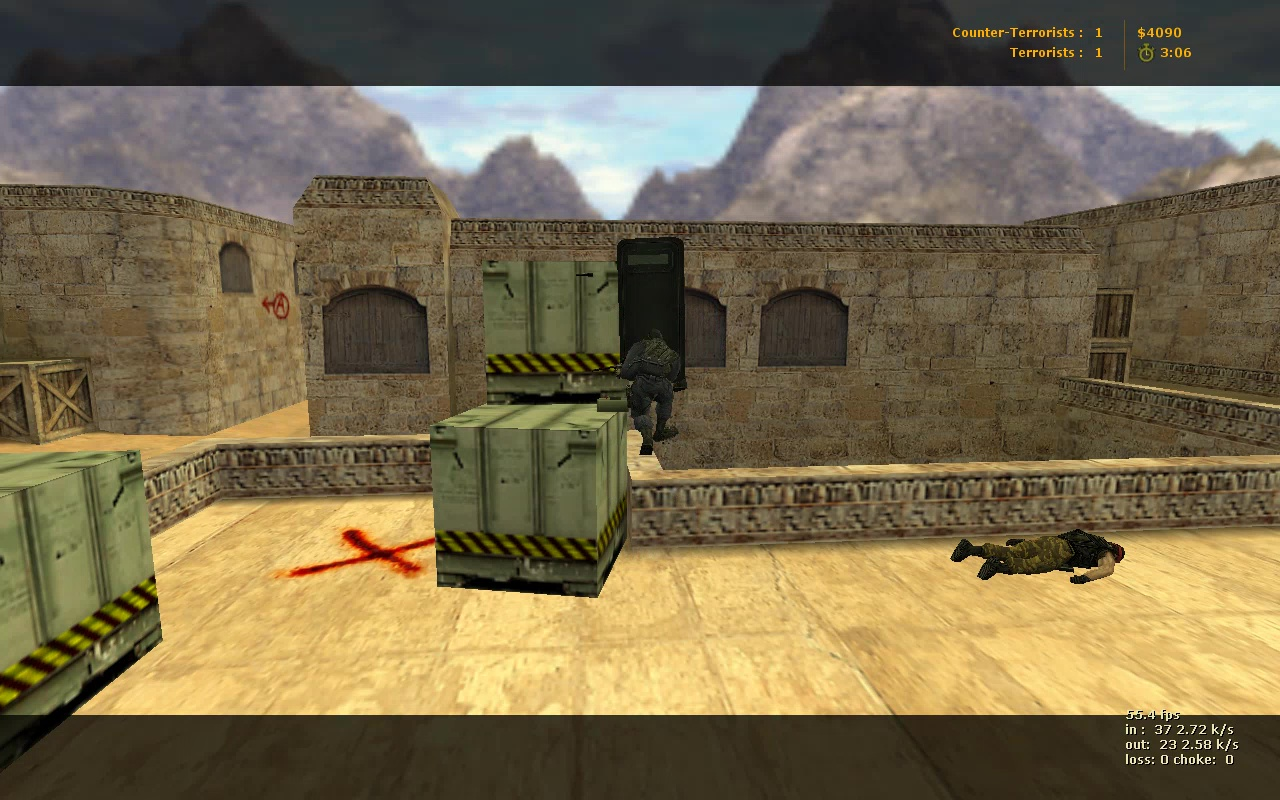ct: (618, 328, 686, 463)
dead: (951, 529, 1128, 588)
